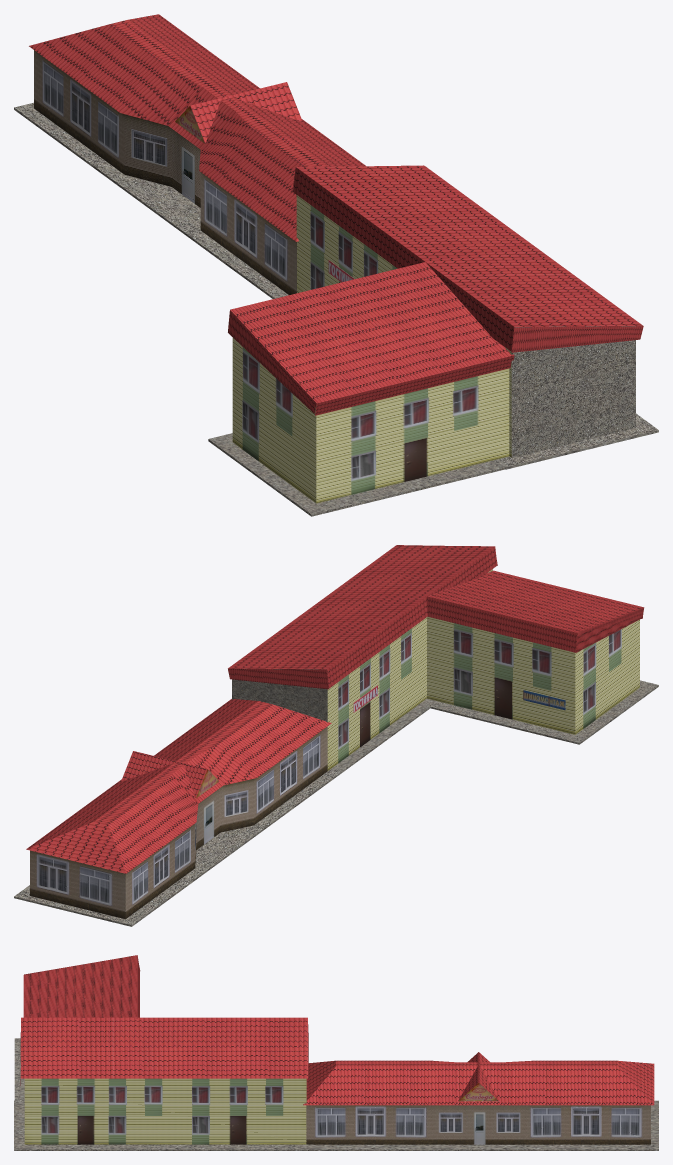
Rendered from r402_tukalinsk_kafe2.FBX.
3 renders of one model, top to bottom at view 1: azimuth 30°, elevation 25°; view 2: azimuth 150°, elevation 25°; view 3: azimuth 270°, elevation 25°, orthographic. The views are drawn at different scales.
Parts seen in each view (by area): view 1: r402_tukalinsk_kafe2; view 2: r402_tukalinsk_kafe2; view 3: r402_tukalinsk_kafe2.
Boxes of the visible parts, x1,y1,x2,y2 form: r402_tukalinsk_kafe2: (14,14,658,516); r402_tukalinsk_kafe2: (14,545,658,926); r402_tukalinsk_kafe2: (14,955,658,1150).
Size of the model in its own units: 16.77 by 41.17 by 6.25.
